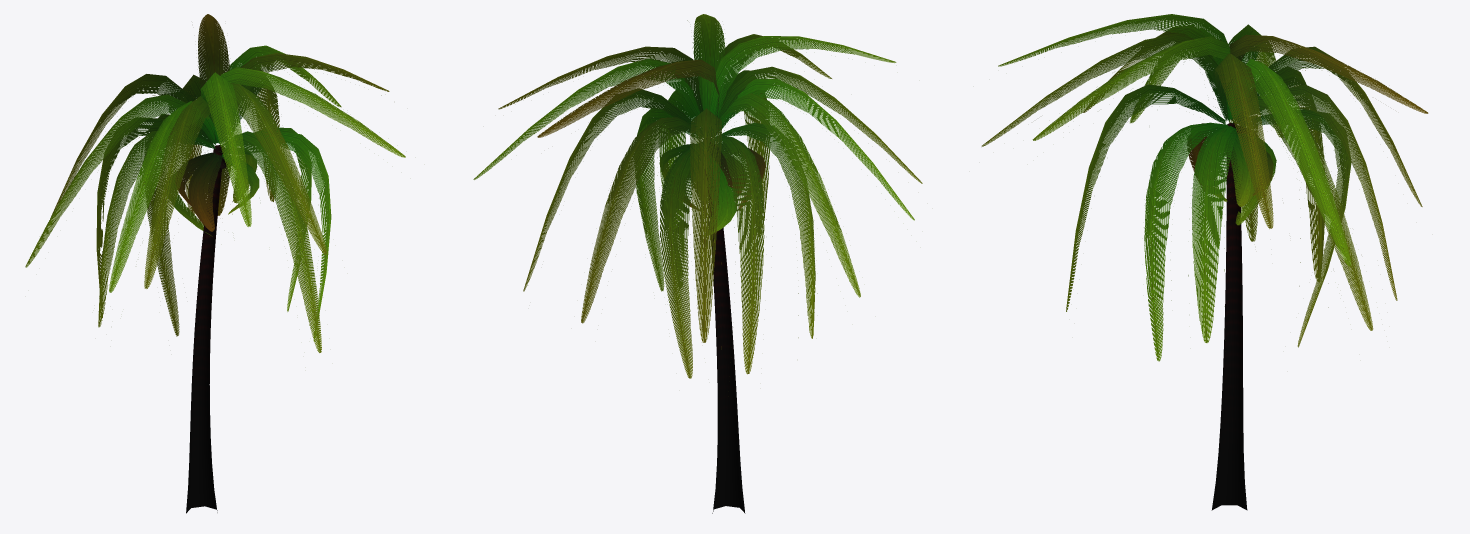
File: palm_b.glb
3 views of the same model, side by side, from view 1: azimuth 30°, elevation 25°; view 2: azimuth 150°, elevation 25°; view 3: azimuth 270°, elevation 25° (orthographic). The views are drawn at different scales.
Visible parts, largest first — view 1: Palm_B; view 2: Palm_B; view 3: Palm_B.
Boxes of the visible parts, box(x1,y1,x2,y2) form: Palm_B: box(25, 14, 405, 513); Palm_B: box(473, 14, 922, 513); Palm_B: box(981, 14, 1428, 510).
Size of the model in its own units: 10.66 by 11.96 by 10.78.
1 material, 1 textured.
